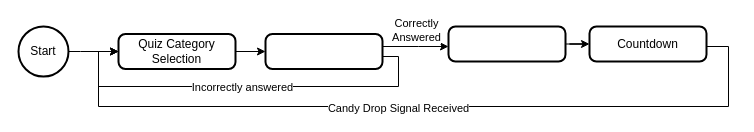
This 754x132 diagram has some shape labels left out. Each missing label, with the centre of its shape:
"Candy Selection" belongs at (506,43).
"Question" belongs at (323,51).
